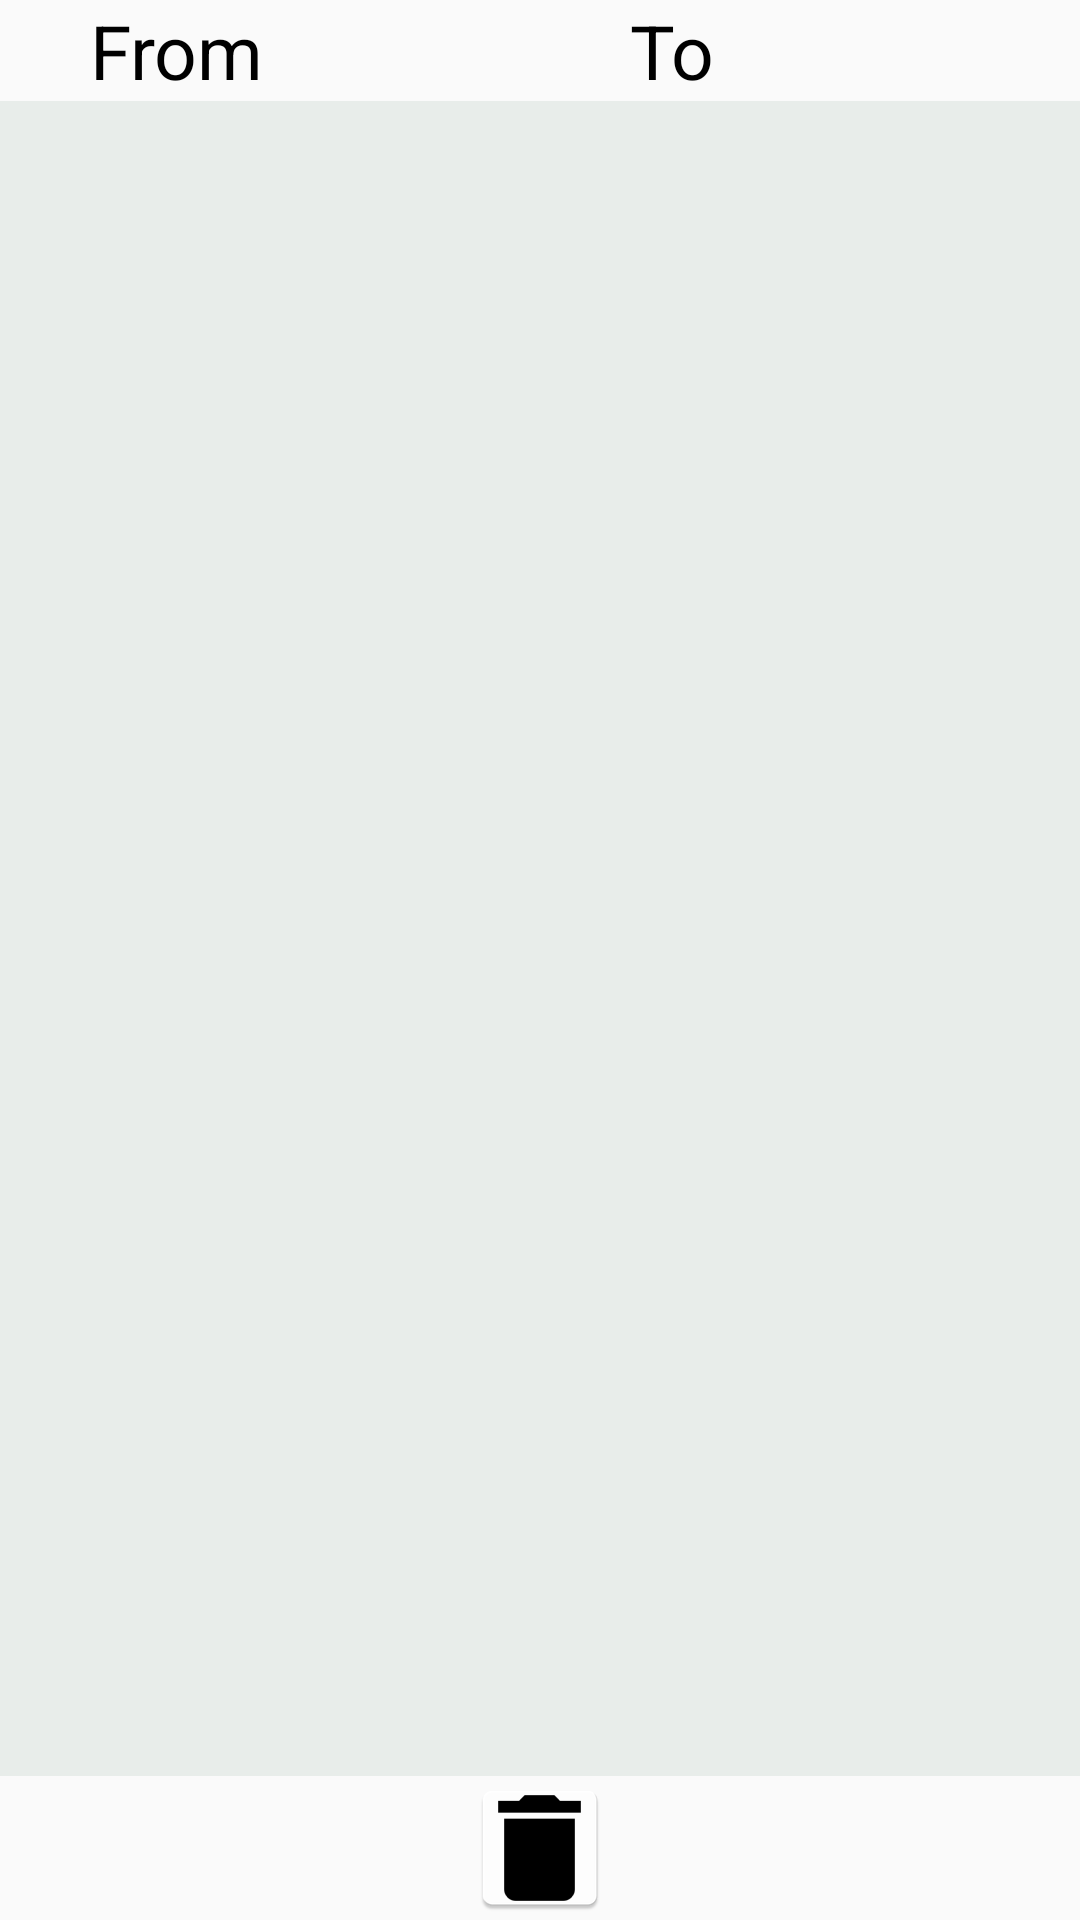

Icons on this 1080*1920 Android screen, each with its box as [x1,y1,x2,y2]:
delete: [483,1795,598,1909]
